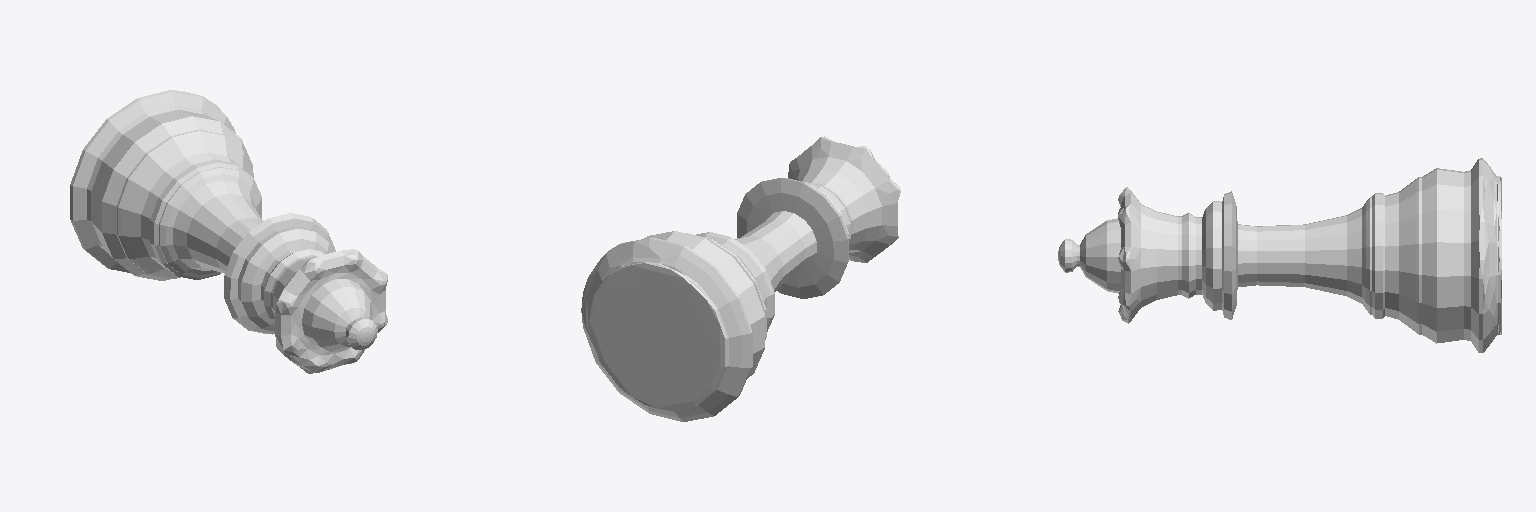
The picture shows the model from 3 angles: view 1: azimuth 30°, elevation 25°; view 2: azimuth 150°, elevation 25°; view 3: azimuth 270°, elevation 25°; orthographic projection.
Visible parts, largest first — view 1: 12933_Wooden_Chess_Queen_side_b_v1_l3; view 2: 12933_Wooden_Chess_Queen_side_b_v1_l3; view 3: 12933_Wooden_Chess_Queen_side_b_v1_l3.
Part boxes in pixels (left/top/right/bottom): 12933_Wooden_Chess_Queen_side_b_v1_l3: left=70, top=90, right=387, bottom=373; 12933_Wooden_Chess_Queen_side_b_v1_l3: left=581, top=136, right=900, bottom=421; 12933_Wooden_Chess_Queen_side_b_v1_l3: left=1058, top=158, right=1501, bottom=352.
Size of the model in its own units: 1.14 by 1.14 by 2.6.
1 materials, 1 textured.